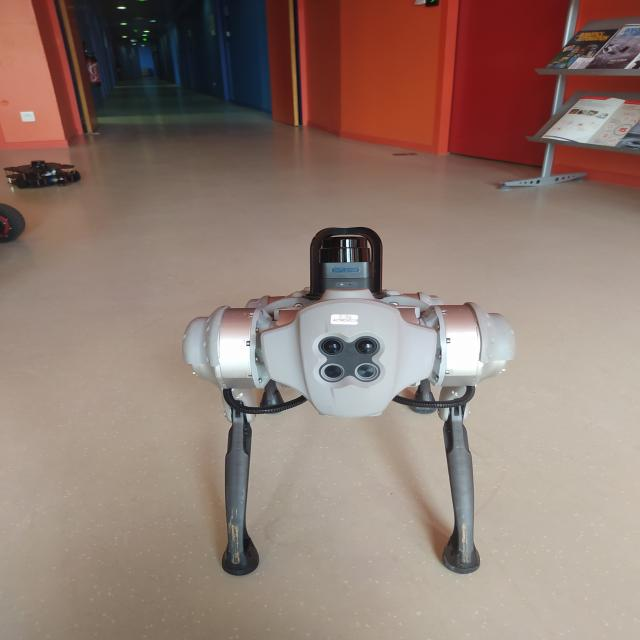unitree-go1-robot: (186, 228, 511, 590)
